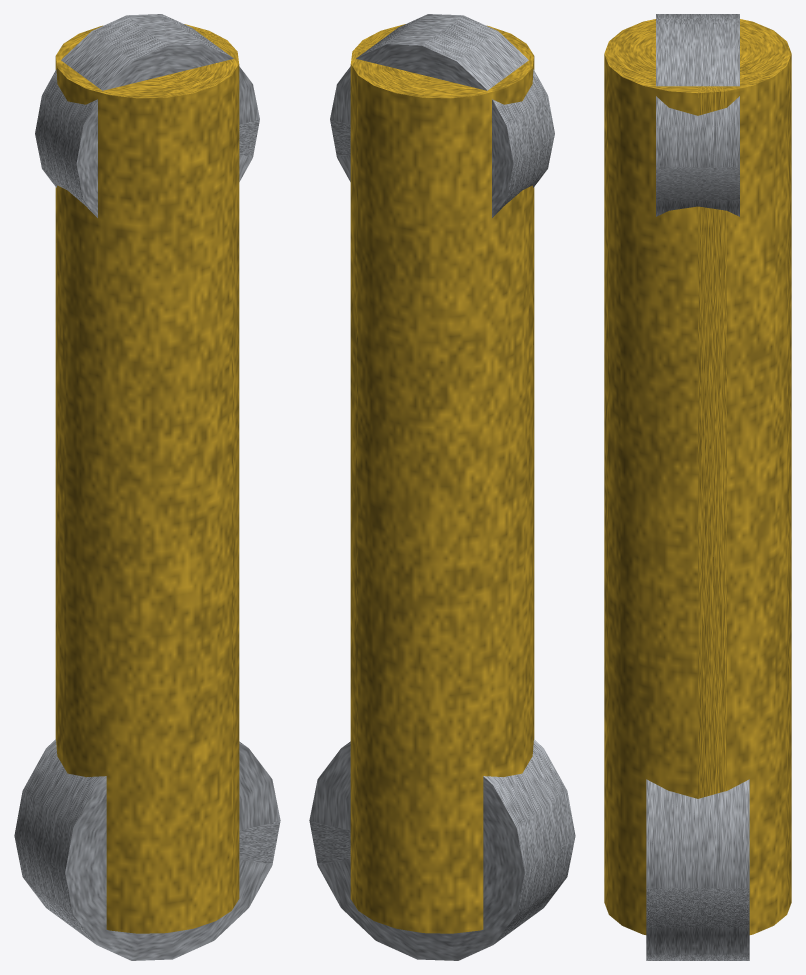
File: arm_link_b.obj
The picture shows the model from 3 angles, left to right: view 1: azimuth 30°, elevation 25°; view 2: azimuth 150°, elevation 25°; view 3: azimuth 270°, elevation 25°; orthographic projection.
Bounding box in the file's own units: 0.081 × 0.327 × 0.06.
2 materials, 2 textured.
